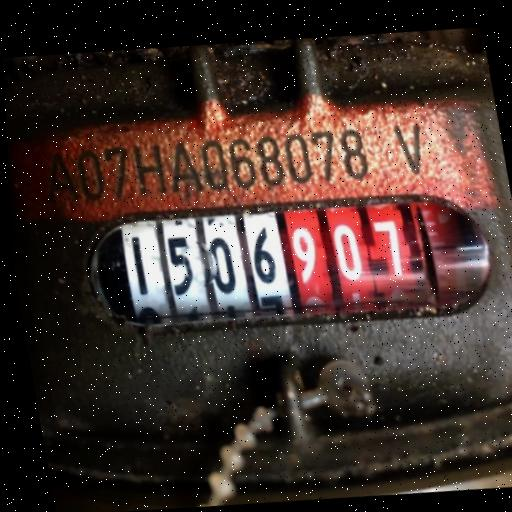0: (323, 203, 379, 316), (203, 211, 254, 320)
1: (117, 215, 174, 328)
3: (412, 194, 476, 308)
5: (161, 214, 214, 324)
6: (241, 208, 295, 319)
7: (365, 198, 423, 315)
9: (281, 205, 338, 318)
border_water_meter_number: (70, 164, 507, 364)
